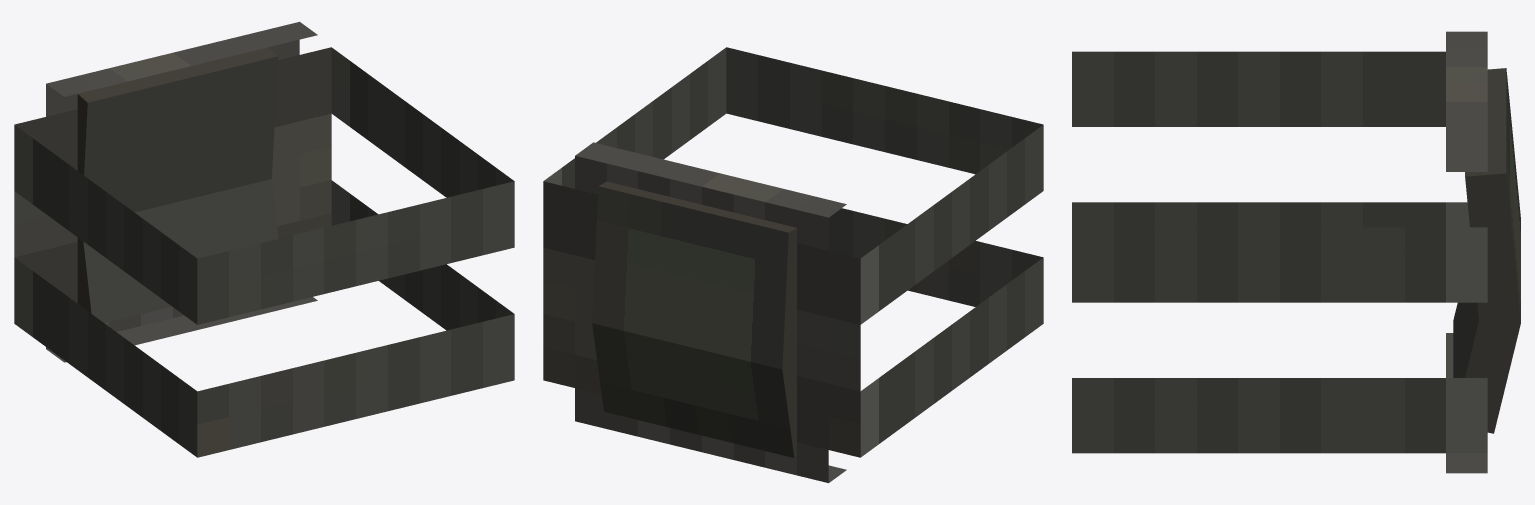
Rendered from ukrainian_veteran_p_r.obj.
The picture shows the model from 3 angles, left to right: view 1: azimuth 30°, elevation 25°; view 2: azimuth 150°, elevation 25°; view 3: azimuth 270°, elevation 25°; orthographic projection. The views are drawn at different scales.
Parts seen in each view (by area): view 1: mesh; view 2: mesh; view 3: mesh.
Boxes of the visible parts, bbox=[...] form: mesh: bbox=[14, 21, 514, 457]; mesh: bbox=[543, 47, 1043, 483]; mesh: bbox=[1072, 31, 1520, 473].
Size of the model in its own units: 0.3125 by 0.25 by 0.3375.
